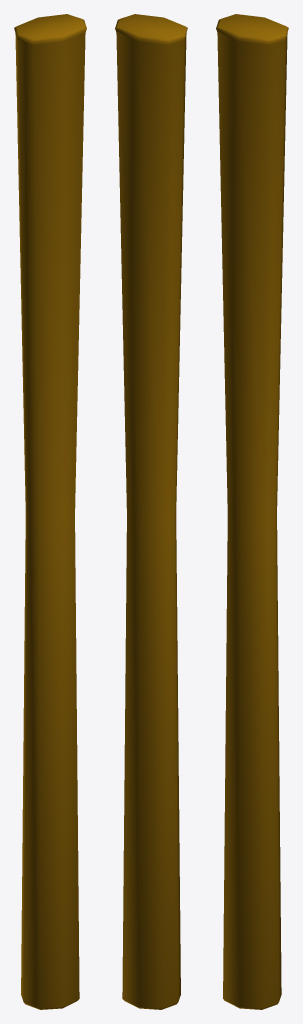
File: PickaxeHandle.fbx
3 renders of one model, left to right at view 1: azimuth 30°, elevation 25°; view 2: azimuth 150°, elevation 25°; view 3: azimuth 330°, elevation 25°, orthographic.
Parts seen in each view (by area): view 1: Cylinder; view 2: Cylinder; view 3: Cylinder.
Boxes of the visible parts, x1,y1,x2,y2 form: Cylinder: (14,14,86,1009); Cylinder: (115,14,187,1009); Cylinder: (216,14,288,1009).
Bounding box in the file's own units: 6.4 × 88 × 4.38.
